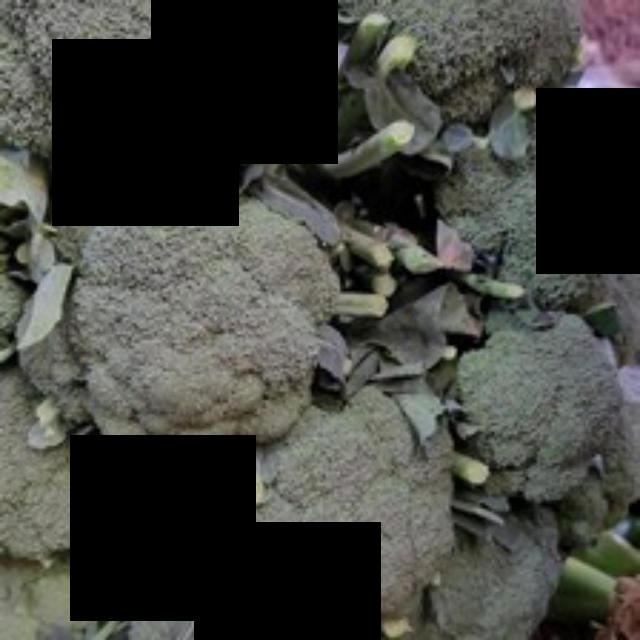broccoli: (50, 175, 346, 477)
